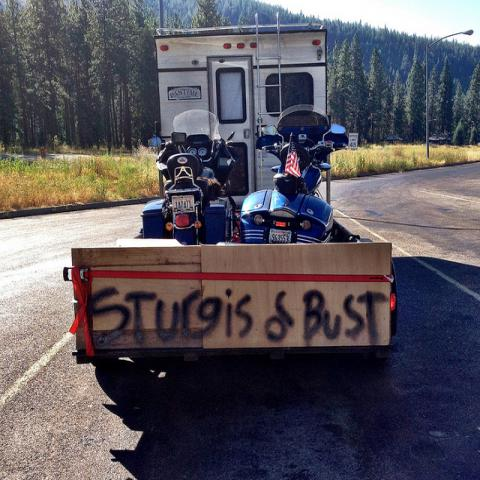motorcycle: (241, 104, 348, 252), (141, 112, 243, 250)
truck: (68, 214, 390, 400)
